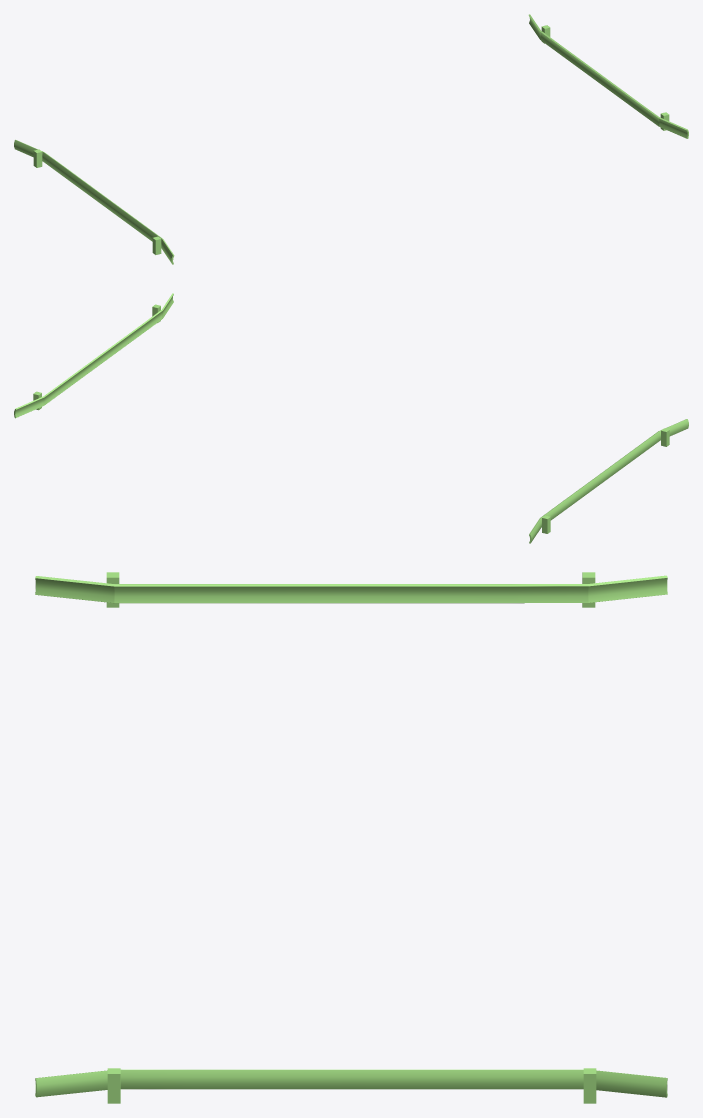
Rendered from Road_Rail.fbx.
The picture shows the model from 3 angles, top to bottom: view 1: azimuth 30°, elevation 25°; view 2: azimuth 150°, elevation 25°; view 3: azimuth 270°, elevation 25°; orthographic projection. The views are drawn at different scales.
Visible parts, largest first — view 1: Road_Rail; view 2: Road_Rail; view 3: Road_Rail.
Part boxes in pixels (left/top/right/bottom): Road_Rail: left=14, top=14, right=688, bottom=264; Road_Rail: left=14, top=293, right=688, bottom=543; Road_Rail: left=35, top=572, right=667, bottom=1103.
Bounding box in the file's own units: 153 × 4.25 × 81.07.
